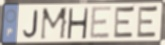E: (135, 4, 160, 40), (89, 5, 113, 41), (112, 5, 136, 40)
H: (66, 7, 90, 40)
J: (22, 9, 39, 40)
M: (39, 7, 70, 42)
